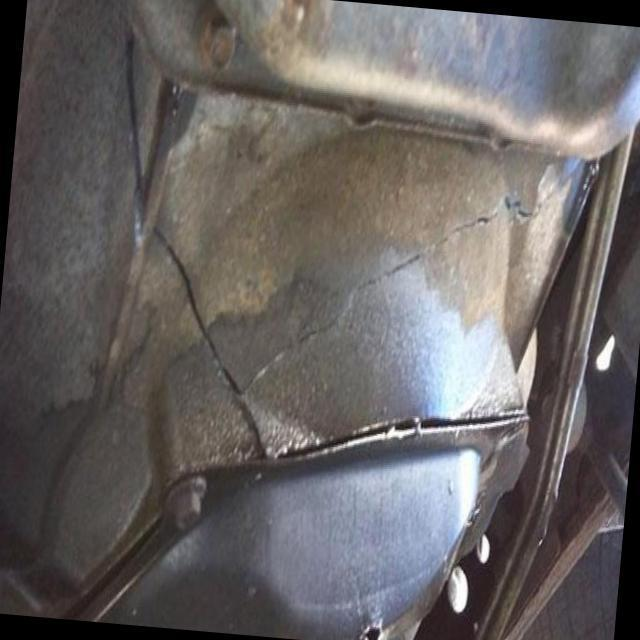defect: (151, 149, 582, 408), (123, 23, 146, 249)
